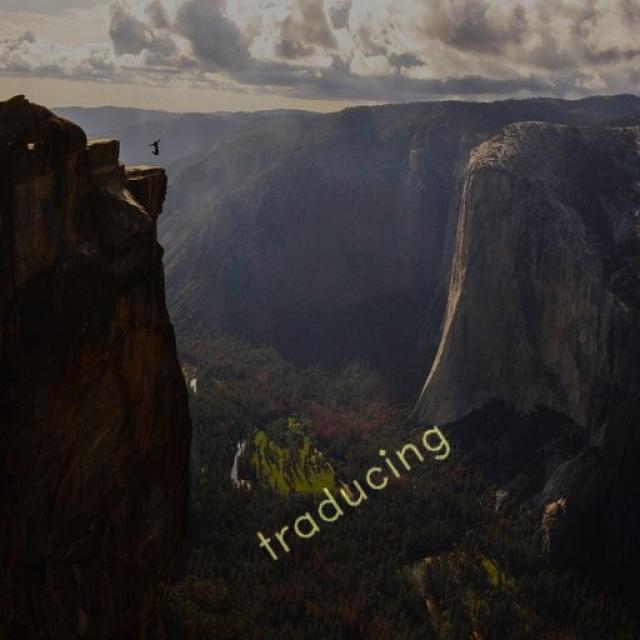watermark: (258, 406, 451, 571)
